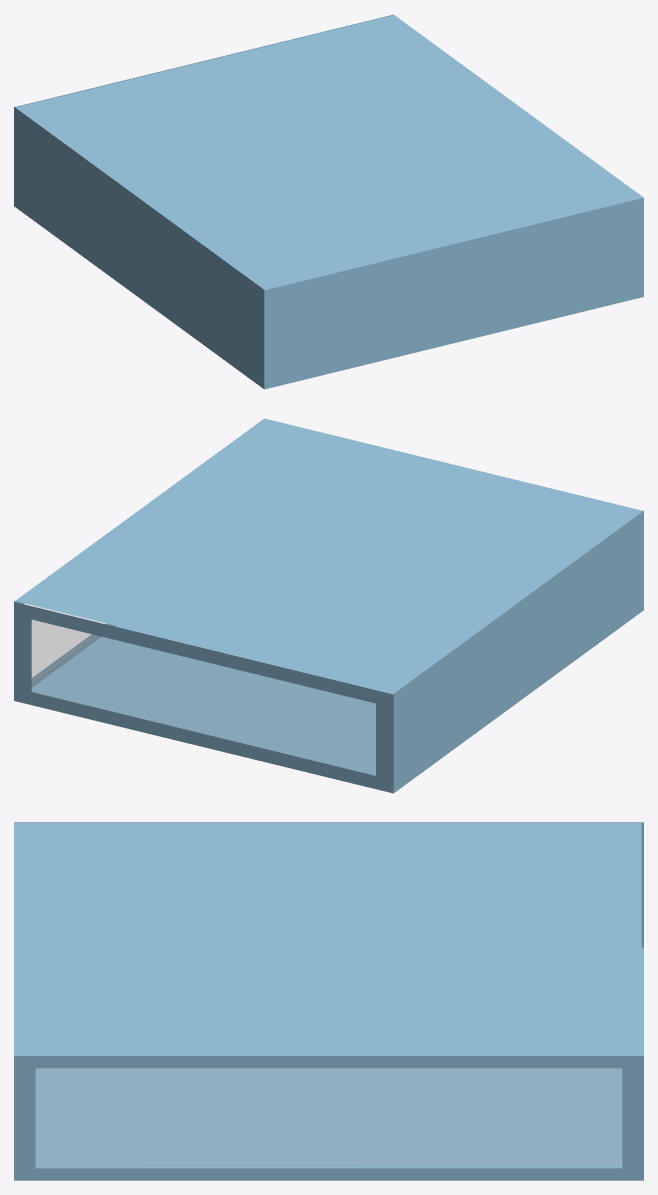
File: room.glb
The picture shows the model from 3 angles, top to bottom: view 1: azimuth 30°, elevation 25°; view 2: azimuth 150°, elevation 25°; view 3: azimuth 270°, elevation 25°; orthographic projection. The views are drawn at different scales.
Parts seen in each view (by area): view 1: Floor + Walls; view 2: Floor + Walls, Window Small, Window Long; view 3: Floor + Walls, Window Long.
Part boxes in pixels (x1,y1,x2,y2): Floor + Walls: (14,14,643,389); Floor + Walls: (14,418,643,793); Window Small: (32,620,375,775); Window Long: (28,604,110,682); Floor + Walls: (14,822,643,1180); Window Long: (36,1068,621,1167).
Bounding box in the file's own units: 26.62 × 6.68 × 30.42.
